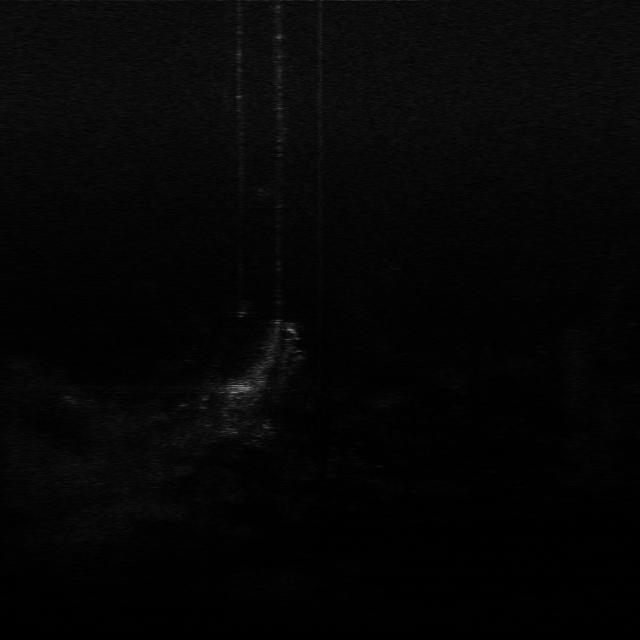rov: (219, 379, 257, 398)
